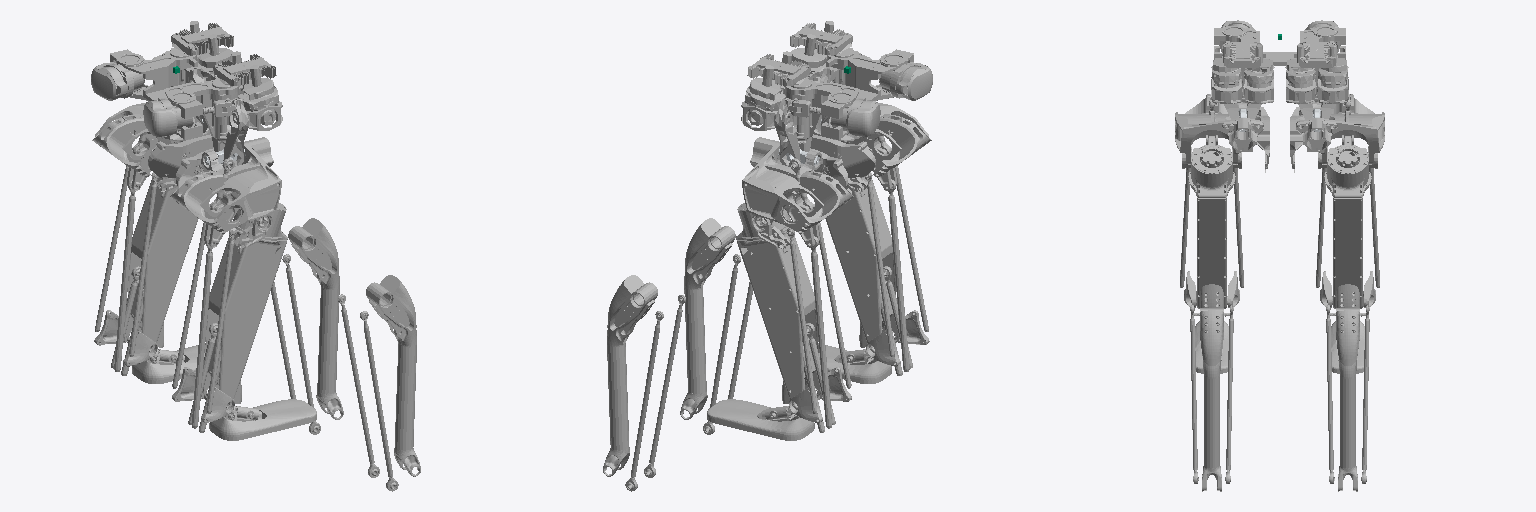
--- Render facts (derived) ---
The picture shows the robot from 3 angles, left to right: view 1: azimuth 30°, elevation 25°; view 2: azimuth 150°, elevation 25°; view 3: azimuth 270°, elevation 25°; orthographic projection.
Model kangaroo with 24 links and 23 joints (14 revolute, 2 prismatic, 6 fixed, 1 floating), rooted at world, posed joints at zero except 6 at the middle of their limits (leg_left_length_joint = 0.4231, leg_left_femur_joint = 0.6981, leg_left_knee_joint = 1.4, leg_right_length_joint = 0.4231, leg_right_femur_joint = 0.6981, leg_right_knee_joint = 1.4).
Links seen in each view (by area): view 1: leg_right_femur_link, leg_left_femur_link, waist, leg_right_3_link, leg_right_knee_link, leg_left_knee_link, leg_right_1_link, leg_left_3_link, leg_right_5_link, leg_left_1_link, leg_left_5_link; view 2: leg_left_femur_link, leg_right_femur_link, waist, leg_left_3_link, leg_left_knee_link, leg_right_knee_link, leg_left_1_link, leg_right_3_link, leg_left_5_link, leg_right_1_link, leg_right_5_link; view 3: leg_left_femur_link, leg_right_femur_link, leg_right_knee_link, leg_left_knee_link, leg_left_1_link, leg_right_1_link, leg_left_3_link, leg_right_3_link, waist, leg_left_5_link, leg_right_5_link.
Link boxes in pixels (x1,y1,x2,y2): leg_right_femur_link: (172,158,287,432); leg_left_femur_link: (94,136,198,375); waist: (91,48,238,140); leg_right_3_link: (170,137,281,248); leg_right_knee_link: (338,275,420,491); leg_left_knee_link: (271,218,343,434); leg_right_1_link: (212,51,282,166); leg_left_3_link: (92,103,230,191); leg_right_5_link: (209,399,316,440); leg_left_1_link: (171,21,233,124); leg_left_5_link: (132,345,204,383); leg_left_femur_link: (736,158,851,432); leg_right_femur_link: (825,136,929,375); waist: (785,48,932,140); leg_left_3_link: (742,137,853,248); leg_left_knee_link: (603,275,685,491); leg_right_knee_link: (680,218,752,434); leg_left_1_link: (741,51,811,166); leg_right_3_link: (793,103,931,191); leg_left_5_link: (707,399,814,440); leg_right_1_link: (790,21,852,124); leg_right_5_link: (819,345,891,383); leg_left_femur_link: (1316,98,1379,308); leg_right_femur_link: (1180,98,1243,308); leg_right_knee_link: (1190,305,1233,491); leg_left_knee_link: (1326,305,1369,491); leg_left_1_link: (1285,42,1348,118); leg_right_1_link: (1211,42,1274,118); leg_left_3_link: (1290,94,1384,172); leg_right_3_link: (1175,94,1269,172); waist: (1214,20,1345,101); leg_left_5_link: (1330,313,1365,373); leg_right_5_link: (1194,313,1229,373).
Size in the robot's own frame: 0.5597 by 0.4554 by 0.9232 metres.
15 mesh visuals loaded from 8 distinct referenced files (8 binary STL).

The robot description file, URDF, robot "kangaroo":
<?xml version="1.0" ?>
<!-- =================================================================================== -->
<!-- |    This document was autogenerated by xacro from kangaroo.urdf.xacro            | -->
<!-- |    EDITING THIS FILE BY HAND IS NOT RECOMMENDED                                 | -->
<!-- =================================================================================== -->
<!--

  Copyright (c) 2020, PAL Robotics, S.L.
  All rights reserved.
-->
<robot name="kangaroo" xmlns:controller="http://playerstage.sourceforge.net/gazebo/xmlschema/#controller" xmlns:interface="http://playerstage.sourceforge.net/gazebo/xmlschema/#interface" xmlns:sensor="http://playerstage.sourceforge.net/gazebo/xmlschema/#sensor">
  <!--************************-->
  <!--        BASE_LINK       -->
  <!--************************-->
  <link name="base_link"/>
  <link name="waist">
    <inertial>
      <origin rpy="0 0 0" xyz="-0.060294 0.00050634 0.15428"/>
      <mass value="12.296"/>
      <inertia ixx="0.084937" ixy="-4.4873E-05" ixz="0.0036119" iyy="0.080587" iyz="0.0001781" izz="0.0247"/>
    </inertial>
    <visual>
      <origin rpy="0 0 0" xyz="0 0 0"/>
      <geometry>
        <mesh filename="package://kangaroo_description/meshes/base_link.stl"/>
      </geometry>
      <material name="">
        <color rgba="0.75294 0.75294 0.75294 1"/>
      </material>
    </visual>
    <collision>
      <origin rpy="0 0 0" xyz="0 0 0"/>
      <geometry>
        <mesh filename="package://kangaroo_description/meshes/base_link.stl"/>
      </geometry>
    </collision>
  </link>
  <joint name="base_joint" type="fixed">
    <parent link="base_link"/>
    <child link="waist"/>
  </joint>
  <link name="imu_link">
    <visual>
      <origin rpy="0 0 0" xyz="0 0 0"/>
      <geometry>
        <box size="0.01 0.01 0.01"/>
      </geometry>
    </visual>
  </link>
  <joint name="imu_joint" type="fixed">
    <origin rpy="0.0 3.141592653589793 0.0" xyz="-0.07075 0.0 0.012"/>
    <parent link="base_link"/>
    <child link="imu_link"/>
  </joint>
  <link name="leg_left_1_link">
    <inertial>
      <origin rpy="0 0 0" xyz="0.0461079574284527 -0.000826631128234001 0.00897630312181676"/>
      <mass value="2.49954419149183"/>
      <inertia ixx="0.00151181747940305" ixy="8.83298140320242e-06" ixz="2.17752660615735e-05" iyy="0.00154876023440654" iyz="-1.94449871986378e-05" izz="0.00136106613590181"/>
    </inertial>
    <visual>
      <origin rpy="0 0 0" xyz="0 0 0"/>
      <geometry>
        <mesh filename="package://kangaroo_description/meshes/leg_1_link.stl" scale="1 1 1"/>
      </geometry>
      <material name="">
        <color rgba="0.752941176470588 0.752941176470588 0.752941176470588 1"/>
      </material>
    </visual>
    <collision>
      <origin rpy="0 0 0" xyz="0 0 0"/>
      <geometry>
        <mesh filename="package://kangaroo_description/meshes/leg_1_link.stl" scale="1 1 1"/>
      </geometry>
    </collision>
  </link>
  <joint name="leg_left_1_joint" type="revolute">
    <origin rpy="0 0 0" xyz="-0.01602 0.08 -0.0585"/>
    <parent link="waist"/>
    <child link="leg_left_1_link"/>
    <axis xyz="0 0 1"/>
    <limit effort="100" lower="-0.2617993877991494" upper="0.6981317007977318" velocity="3.87"/>
  </joint>
  <link name="leg_left_2_link">
    <inertial>
      <origin rpy="0 0 0" xyz="-0.00299642516878475 -0.000101293190038279 6.76277450706309E-10"/>
      <mass value="0.0907287903783648"/>
      <inertia ixx="6.10402208807908E-06" ixy="3.54403077254796E-08" ixz="-3.0910293306339E-13" iyy="3.90470919341026E-05" iyz="-1.14069181428674E-12" izz="3.64238433670963E-05"/>
    </inertial>
    <visual>
      <origin rpy="0 0 0" xyz="0 0 0"/>
      <geometry>
        <mesh filename="package://kangaroo_description/meshes/leg_2_link.stl" scale="1 1 1"/>
      </geometry>
      <material name="">
        <color rgba="0.894117647058823 0.913725490196078 0.929411764705882 1"/>
      </material>
    </visual>
  </link>
  <joint name="leg_left_2_joint" type="revolute">
    <origin rpy="0 0 0" xyz="0.016042 0 -0.0925"/>
    <parent link="leg_left_1_link"/>
    <child link="leg_left_2_link"/>
    <axis xyz="0 1 0"/>
    <limit effort="100" lower="-0.7417649320975901" upper="0.7417649320975901" velocity="3.87"/>
  </joint>
  <link name="leg_left_3_link">
    <inertial>
      <origin rpy="0 0 0" xyz="-0.042791492019428 0.0477271400490046 -0.0411219993940296"/>
      <mass value="3.66987205802361"/>
      <inertia ixx="0.00226579365890287" ixy="0.000186528466622377" ixz="-9.4464170720752e-05" iyy="0.00347844100338387" iyz="4.48424073671215e-05" izz="0.00335571040406776"/>
    </inertial>
    <visual>
      <origin rpy="0 0 0" xyz="0 0 0"/>
      <geometry>
        <mesh filename="package://kangaroo_description/meshes/leg_3_link.stl" scale="1 1 1"/>
      </geometry>
      <material name="">
        <color rgba="0.752941176470588 0.752941176470588 0.752941176470588 1"/>
      </material>
    </visual>
    <collision>
      <origin rpy="0 0 0" xyz="0 0 0"/>
      <geometry>
        <mesh filename="package://kangaroo_description/meshes/leg_3_link.stl" scale="1 1 1"/>
      </geometry>
    </collision>
  </link>
  <joint name="leg_left_3_joint" type="revolute">
    <origin rpy="0 0 0" xyz="0 0 0"/>
    <parent link="leg_left_2_link"/>
    <child link="leg_left_3_link"/>
    <axis xyz="1 0 0"/>
    <limit effort="100" lower="-0.47123889803846897" upper="0.47123889803846897" velocity="3.87"/>
  </joint>
  <link name="leg_left_femur_link">
    <inertial>
      <origin rpy="0 0 0" xyz="0.114702002010089 0.000182856660852354 -0.0143986490691173"/>
      <mass value="0.1"/>
      <inertia ixx="1.E-5" ixy="0.0" ixz="0.0" iyy="1.E-5" iyz="0.0" izz="1.E-5"/>
    </inertial>
    <visual>
      <origin rpy="0 0 0" xyz="0 0 0"/>
      <geometry>
        <mesh filename="package://kangaroo_description/meshes/leg_4_link.stl"/>
      </geometry>
      <material name="">
        <color rgba="0.752941176470588 0.752941176470588 0.752941176470588 1"/>
      </material>
    </visual>
    <collision>
      <origin rpy="0 0 0" xyz="0 0 0"/>
      <geometry>
        <mesh filename="package://kangaroo_description/meshes/leg_4_link.stl"/>
      </geometry>
    </collision>
  </link>
  <link name="leg_left_knee_link">
    <inertial>
      <origin rpy="0 0 0" xyz="-0.158662729273678 -8.28192764317226E-05 -0.0337468261967321"/>
      <mass value="0.1"/>
      <inertia ixx="1.E-5" ixy="0.0" ixz="0.0" iyy="1.E-5" iyz="0.0" izz="1.E-5"/>
    </inertial>
    <visual>
      <origin rpy="0 0 0" xyz="0 0 0"/>
      <geometry>
        <mesh filename="package://kangaroo_description/meshes/leg_5_link.stl"/>
      </geometry>
      <material name="">
        <color rgba="0.752941176470588 0.752941176470588 0.752941176470588 1"/>
      </material>
    </visual>
    <collision>
      <origin rpy="0 0 0" xyz="0 0 0"/>
      <geometry>
        <mesh filename="package://kangaroo_description/meshes/leg_5_collision_link.stl"/>
      </geometry>
    </collision>
  </link>
  <link name="leg_left_length_link">
    <inertial>
      <origin rpy="0 0 0" xyz="0.0 0.0 -0.2"/>
      <mass value="6.0"/>
      <inertia ixx="0.05" ixy="0.0" ixz="0.0" iyy="0.05" iyz="0.0" izz="0.016875"/>
    </inertial>
    <visual>
      <origin rpy="0 0 0" xyz="0 0 -0.291096695"/>
      <geometry>
        <cylinder length="0.58219339" radius="0.00005"/>
      </geometry>
      <material name="DarkGrey"/>
    </visual>
  </link>
  <joint name="leg_left_length_joint" type="prismatic">
    <origin rpy="0 3.141592653589793 0" xyz="0 0.0669 -0.09"/>
    <parent link="leg_left_3_link"/>
    <child link="leg_left_length_link"/>
    <axis xyz="0 0 1"/>
    <limit effort="500" lower="0.131973" upper="0.71416639" velocity="10"/>
  </joint>
  <joint name="leg_left_femur_joint" type="revolute">
    <origin rpy="0 -0.17453292519943295 0" xyz="0 0.0669 -0.09"/>
    <parent link="leg_left_3_link"/>
    <child link="leg_left_femur_link"/>
    <axis xyz="0 1 0"/>
    <limit effort="100" lower="0.17453292519943295" upper="1.2217304763960306" velocity="3.87"/>
    <!--mimic joint="leg_left_length_joint" multiplier="1.69435" offset="-0.096145"/-->
  </joint>
  <joint name="leg_left_knee_joint" type="revolute">
    <origin rpy="0 0.3490658503988659 0" xyz="0.37413 0 -0.066509"/>
    <parent link="leg_left_femur_link"/>
    <child link="leg_left_knee_link"/>
    <axis xyz="0 -1 0"/>
    <limit effort="100" lower="0.3490658503988659" upper="2.443460952792061" velocity="3.87"/>
    <!--mimic joint="leg_left_length_joint" multiplier="3.38877" offset="-0.19229"/-->
  </joint>
  <link name="leg_left_4_link">
    <inertial>
      <origin rpy="0 0 0" xyz="-0.00714160332877733 4.8311277200952E-09 0.00259941265068991"/>
      <mass value="0.0905836559788966"/>
      <inertia ixx="7.07461991271062E-06" ixy="-1.86951004827933E-12" ixz="8.30282143898823E-06" iyy="2.92762498059213E-05" iyz="1.82895645239997E-11" izz="2.68643074366886E-05"/>
    </inertial>
    <visual>
      <origin rpy="0 0 0" xyz="0 0 0"/>
      <geometry>
        <mesh filename="package://kangaroo_description/meshes/leg_6_link.stl"/>
      </geometry>
      <material name="">
        <color rgba="0.752941176470588 0.752941176470588 0.752941176470588 1"/>
      </material>
    </visual>
  </link>
  <joint name="leg_left_4_joint" type="revolute">
    <origin rpy="0 3.141592653589793 0" xyz="0.0 0 0.0"/>
    <parent link="leg_left_length_link"/>
    <child link="leg_left_4_link"/>
    <axis xyz="0 1 0"/>
    <limit effort="100" lower="-0.7417649320975901" upper="0.7417649320975901" velocity="3.87"/>
  </joint>
  <link name="leg_left_5_link">
    <inertial>
      <origin rpy="0 0 0" xyz="0.0177425915954867 -3.67950153736807E-05 -0.0172694732454237"/>
      <mass value="0.394418327358563"/>
      <inertia ixx="0.000228382894016579" ixy="-2.56621760255351E-07" ixz="4.1179623691202E-05" iyy="0.00108653696539759" iyz="7.85648127231571E-09" izz="0.0012643765698811"/>
    </inertial>
    <visual>
      <origin rpy="0 0 0" xyz="0 0 0"/>
      <geometry>
        <mesh filename="package://kangaroo_description/meshes/leg_7_link.stl"/>
      </geometry>
      <material name="">
        <color rgba="0.752941176470588 0.752941176470588 0.752941176470588 1"/>
      </material>
    </visual>
    <collision>
      <origin rpy="0 0 0" xyz="0.035 0 -0.02"/>
      <geometry>
        <box size="0.21 0.09 0.025"/>
      </geometry>
    </collision>
  </link>
  <joint name="leg_left_5_joint" type="revolute">
    <origin rpy="0 0 0" xyz="0 0 0"/>
    <parent link="leg_left_4_link"/>
    <child link="leg_left_5_link"/>
    <!--axis xyz="-0.93969 0 0.34202"/-->
    <axis xyz="-1 0 0"/>
    <limit effort="100" lower="-0.47123889803846897" upper="0.47123889803846897" velocity="3.87"/>
  </joint>
  <link name="left_sole_link"/>
  <joint name="left_sole_fix_joint" type="fixed">
    <parent link="leg_left_5_link"/>
    <child link="left_sole_link"/>
    <origin rpy="0 0 0" xyz="0.028 0.0 -0.029"/>
    <axis xyz="1 0 0"/>
  </joint>
  <transmission name="leg_left_4_transmission">
    <type>transmission_interface/SimpleTransmission</type>
    <actuator name="leg_left_4_motor">
      <hardwareInterface>hardware_interface/PositionJointInterface</hardwareInterface>
      <hardwareInterface>hardware_interface/EffortJointInterface</hardwareInterface>
      <hardwareInterface>hardware_interface/JointStateInterface</hardwareInterface>
      <mechanicalReduction>1.0</mechanicalReduction>
    </actuator>
    <joint name="leg_left_4_joint">
      <hardwareInterface>hardware_interface/PositionJointInterface</hardwareInterface>
      <hardwareInterface>hardware_interface/EffortJointInterface</hardwareInterface>
      <hardwareInterface>hardware_interface/JointStateInterface</hardwareInterface>
    </joint>
  </transmission>
  <transmission name="leg_left_5_transmission">
    <type>transmission_interface/SimpleTransmission</type>
    <actuator name="leg_left_5_motor">
      <hardwareInterface>hardware_interface/PositionJointInterface</hardwareInterface>
      <hardwareInterface>hardware_interface/EffortJointInterface</hardwareInterface>
      <hardwareInterface>hardware_interface/JointStateInterface</hardwareInterface>
      <mechanicalReduction>1.0</mechanicalReduction>
    </actuator>
    <joint name="leg_left_5_joint">
      <hardwareInterface>hardware_interface/PositionJointInterface</hardwareInterface>
      <hardwareInterface>hardware_interface/EffortJointInterface</hardwareInterface>
      <hardwareInterface>hardware_interface/JointStateInterface</hardwareInterface>
    </joint>
  </transmission>
  <!--     <transmission name="leg_${side}_transmission">
      <type>pal_transmissions/AnkleCustomTransmission</type>
      <actuator name="leg_${side}_${roll_joint}_motor">
        <role>right_actuator</role>
        <param_ns>/ankle_params</param_ns>
      </actuator>
      <actuator name="leg_${side}_${pitch_joint}_motor">
        <role>left_actuator</role>
      </actuator>
      <actuator name="${read_actuator}">
        <role>leg_length</role>
        <param_ns>/leg_params</param_ns>
      </actuator>
      <joint name="leg_${side}_${roll_joint}_joint">
        <role>roll_joint</role>
        <offset> 0.0 </offset>
        <hardwareInterface>hardware_interface/PositionJointInterface</hardwareInterface>
        <hardwareInterface>hardware_interface/EffortJointInterface</hardwareInterface>
      </joint>
      <joint name="leg_${side}_${pitch_joint}_joint">
        <role>pitch_joint</role>
        <offset> 0.0 </offset>
        <hardwareInterface>hardware_interface/PositionJointInterface</hardwareInterface>
        <hardwareInterface>hardware_interface/EffortJointInterface</hardwareInterface>
      </joint>
    </transmission> -->
  <gazebo reference="leg_left_4_joint">
    <implicitSpringDamper>1</implicitSpringDamper>
  </gazebo>
  <gazebo reference="leg_left_5_joint">
    <implicitSpringDamper>1</implicitSpringDamper>
    <provideFeedback>1</provideFeedback>
  </gazebo>
  <gazebo reference="leg_left_4_link">
    <mu1>0.9</mu1>
    <mu2>0.9</mu2>
    <implicitSpringDamper>1</implicitSpringDamper>
    <material>Gazebo/FlatWhite</material>
  </gazebo>
  <!--
   <gazebo reference="leg_${side}_${roll_joint}_link">
     <mu1>0.9</mu1>
     <mu2>0.9</mu2>
     <implicitSpringDamper>1</implicitSpringDamper>
     <material>Gazebo/FlatWhite</material>
   </gazebo>  -->
  <gazebo reference="leg_left_5_link">
    <kp>1000000.0</kp>
    <!-- 1000000 -->
    <kd>100.0</kd>
    <mu1>1.0</mu1>
    <mu2>1.0</mu2>
    <fdir1>1 0 0</fdir1>
    <maxVel>1.0</maxVel>
    <minDepth>0.00</minDepth>
    <implicitSpringDamper>1</implicitSpringDamper>
    <provideFeedback>1</provideFeedback>
    <material>Gazebo/FlatWhite</material>
  </gazebo>
  <!--
    <gazebo reference="leg_{side}_${pitch_joint}_link">
     <kp>1000.0</kp>
      <kd>10.0</kd>
      <mu1>1.0</mu1>
      <mu2>1.0</mu2>
      <fdir1>1 0 0</fdir1>
      <fdir2>0 1 0</fdir2>
      <maxVel>1.0</maxVel>
      <minDepth>0.00</minDepth>
      <implicitSpringDamper>1</implicitSpringDamper>
      <provideFeedback>1</provideFeedback>
      <material>Gazebo/FlatWhite</material>
    </gazebo>
    -->
  <transmission name="leg_left_transmission_yaw">
    <type>transmission_interface/SimpleTransmission</type>
    <actuator name="leg_left_1_motor">
      <mechanicalReduction>1.0</mechanicalReduction>
    </actuator>
    <joint name="leg_left_1_joint">
      <hardwareInterface>hardware_interface/PositionJointInterface</hardwareInterface>
      <hardwareInterface>hardware_interface/EffortJointInterface</hardwareInterface>
    </joint>
  </transmission>
  <transmission name="leg_left_transmission_roll_pitch">
    <type>pal_transmissions/HipCustomTransmission</type>
    <actuator name="leg_left_3_motor">
      <role>actuator1</role>
      <virtual_linear_actuator>
        <screw_lead> 0.005 </screw_lead>
        <efficiency> 0.9 </efficiency>
        <limits>
          <position>
            <min> 0.0 </min>
            <max> 0.10 </max>
          </position>
          <velocity>
            <min> -0.3 </min>
            <max> 0.3 </max>
          </velocity>
        </limits>
      </virtual_linear_actuator>
      <mechanicalReduction>1.0</mechanicalReduction>
    </actuator>
    <actuator name="leg_left_2_motor">
      <role>actuator2</role>
      <virtual_linear_actuator>
        <screw_lead> 0.005 </screw_lead>
        <efficiency> 0.9 </efficiency>
        <limits>
          <position>
            <min> 0.0 </min>
            <max> 0.10 </max>
          </position>
          <velocity>
            <min> -0.3 </min>
            <max> 0.3 </max>
          </velocity>
        </limits>
      </virtual_linear_actuator>
      <mechanicalReduction>1.0</mechanicalReduction>
    </actuator>
    <joint name="leg_left_3_joint">
      <role>joint1</role>
      <limits>
        <position>
          <min> -0.47123889803846897 </min>
          <max> 0.47123889803846897 </max>
        </position>
      </limits>
      <configuration>
        <offset_x> 0.0035 </offset_x>
        <offset_y> 0.0051 </offset_y>
        <projected_distance> 0.17650 </projected_distance>
        <dx> 0.0035 </dx>
        <dy> 0.0060 </dy>
      </configuration>
      <hardwareInterface>hardware_interface/PositionJointInterface</hardwareInterface>
      <hardwareInterface>hardware_interface/EffortJointInterface</hardwareInterface>
    </joint>
    <joint name="leg_left_2_joint">
      <role>joint2</role>
      <limits>
        <position>
          <min> -0.7417649320975901 </min>
          <max> 0.7417649320975901 </max>
        </position>
      </limits>
      <hardwareInterface>hardware_interface/PositionJointInterface</hardwareInterface>
      <hardwareInterface>hardware_interface/EffortJointInterface</hardwareInterface>
    </joint>
  </transmission>
  <transmission name="leg_left_leg_length_trans">
    <type>pal_transmissions/LegCustomTransmission</type>
    <actuator name="leg_left_length_motor">
      </actuator>
    <joint name="leg_left_length_joint">
      <joint_type> leg_length </joint_type>
      <param_ns> /leg_params </param_ns>
      <offset> 0.0 </offset>
      <hardwareInterface>hardware_interface/PositionJointInterface</hardwareInterface>
      <hardwareInterface>hardware_interface/EffortJointInterface</hardwareInterface>
      <hardwareInterface>hardware_interface/JointStateInterface</hardwareInterface>
    </joint>
  </transmission>
  <gazebo reference="leg_left_1_link">
    <mu1>0.9</mu1>
    <mu2>0.9</mu2>
  </gazebo>
  <gazebo reference="leg_left_2_link">
    <mu1>0.9</mu1>
    <mu2>0.9</mu2>
  </gazebo>
  <gazebo reference="leg_left_3_link">
    <mu1>0.9</mu1>
    <mu2>0.9</mu2>
  </gazebo>
  <gazebo reference="leg_left_length_link">
    <mu1>0.9</mu1>
    <mu2>0.9</mu2>
  </gazebo>
  <!-- <gazebo reference="leg_${side}_4_link">
      <mu1>0.9</mu1>
      <mu2>0.9</mu2>
    </gazebo>
    <gazebo reference="leg_${side}_5_link">
      <mu1>0.9</mu1>
      <mu2>0.9</mu2>
    </gazebo> -->
  <gazebo reference="leg_left_1_joint">
    <implicitSpringDamper>1</implicitSpringDamper>
  </gazebo>
  <gazebo reference="leg_left_2_joint">
    <implicitSpringDamper>1</implicitSpringDamper>
  </gazebo>
  <gazebo reference="leg_left_3_joint">
    <implicitSpringDamper>1</implicitSpringDamper>
  </gazebo>
  <!-- <gazebo reference="leg_${side}_4_joint">
      <implicitSpringDamper>1</implicitSpringDamper>
   </gazebo>
   <gazebo reference="leg_${side}_5_joint">
      <implicitSpringDamper>1</implicitSpringDamper>
   </gazebo> -->
  <gazebo reference="leg_left_length_link">
    <implicitSpringDamper>1</implicitSpringDamper>
  </gazebo>
  <gazebo reference="leg_left_1_link">
    <material>Gazebo/FlatWhite</material>
  </gazebo>
  <gazebo reference="leg_left_2_link">
    <material>Gazebo/FlatWhite</material>
  </gazebo>
  <gazebo reference="leg_left_3_link">
    <material>Gazebo/FlatWhite</material>
  </gazebo>
  <!-- <gazebo reference="leg_${side}_4_link">
     <material>Gazebo/FlatBlack</material>
   </gazebo>
   <gazebo reference="leg_${side}_5_link">
     <material>Gazebo/FlatBlack</material>
   </gazebo> -->
  <gazebo reference="leg_left_length_link">
    <material>Gazebo/FlatBlack</material>
  </gazebo>
  <gazebo>
    <plugin filename="libroboticsgroup_gazebo_mimic_joint_plugin.so" name="mimic_joint_plugin">
      <joint>leg_left_length_joint</joint>
      <mimicJoint>leg_left_knee_joint</mimicJoint>
      <multiplier>3.38877</multiplier>
      <offset>-0.19229</offset>
      <sensitiveness>0.0</sensitiveness>
      <!-- if absolute difference between setpoint and process value is below this threshold, do nothing; 0.0 = disable [rad] -->
      <maxEffort>100.0</maxEffort>
    </plugin>
  </gazebo>
  <gazebo>
    <plugin filename="libroboticsgroup_gazebo_mimic_joint_plugin.so" name="mimic_joint_plugin">
      <joint>leg_left_length_joint</joint>
      <mimicJoint>leg_left_femur_joint</mimicJoint>
      <multiplier>1.69435</multiplier>
      <offset>-0.096145</offset>
      <sensitiveness>0.0</sensitiveness>
      <!-- if absolute difference between setpoint and process value is below this threshold, do nothing; 0.0 = disable [rad] -->
      <maxEffort>100.0</maxEffort>
    </plugin>
  </gazebo>
  <link name="leg_right_1_link">
    <inertial>
      <origin rpy="0 0 0" xyz="0.0461079574284527 0.000826631128234001 0.00897630312181676"/>
      <mass value="2.49954419149183"/>
      <inertia ixx="0.00151181747940305" ixy="-8.83298140320242e-06" ixz="-2.17752660615735e-05" iyy="0.00154876023440654" iyz="1.94449871986378e-05" izz="0.00136106613590181"/>
    </inertial>
    <visual>
      <origin rpy="0 0 0" xyz="0 0 0"/>
      <geometry>
        <mesh filename="package://kangaroo_description/meshes/leg_1_link.stl" scale="1 -1 1"/>
      </geometry>
      <material name="">
        <color rgba="0.752941176470588 0.752941176470588 0.752941176470588 1"/>
      </material>
    </visual>
    <collision>
      <origin rpy="0 0 0" xyz="0 0 0"/>
      <geometry>
        <mesh filename="package://kangaroo_description/meshes/leg_1_link.stl" scale="1 -1 1"/>
      </geometry>
    </collision>
  </link>
  <joint name="leg_right_1_joint" type="revolute">
    <origin rpy="0 0 0" xyz="-0.01602 -0.08 -0.0585"/>
    <parent link="waist"/>
    <child link="leg_right_1_link"/>
    <axis xyz="0 0 1"/>
    <limit effort="100" lower="-0.6981317007977318" upper="0.2617993877991494" velocity="3.87"/>
  </joint>
  <link name="leg_right_2_link">
    <inertial>
      <origin rpy="0 0 0" xyz="-0.00299642516878475 -0.000101293190038279 6.76277450706309E-10"/>
      <mass value="0.0907287903783648"/>
      <inertia ixx="6.10402208807908E-06" ixy="3.54403077254796E-08" ixz="-3.0910293306339E-13" iyy="3.90470919341026E-05" iyz="-1.14069181428674E-12" izz="3.64238433670963E-05"/>
    </inertial>
    <visual>
      <origin rpy="0 0 0" xyz="0 0 0"/>
      <geometry>
        <mesh filename="package://kangaroo_description/meshes/leg_2_link.stl" scale="1 -1 1"/>
      </geometry>
      <material name="">
        <color rgba="0.894117647058823 0.913725490196078 0.929411764705882 1"/>
      </material>
    </visual>
  </link>
  <joint name="leg_right_2_joint" type="revolute">
    <origin rpy="0 0 0" xyz="0.016042 0 -0.0925"/>
    <parent link="leg_right_1_link"/>
    <child link="leg_right_2_link"/>
    <axis xyz="0 1 0"/>
    <limit effort="100" lower="-0.7417649320975901" upper="0.7417649320975901" velocity="3.87"/>
  </joint>
  <link name="leg_right_3_link">
    <inertial>
      <origin rpy="0 0 0" xyz="-0.042791492019428 -0.0477271400490046 -0.0411219993940296"/>
      <mass value="3.66987205802361"/>
      <inertia ixx="0.00226579365890287" ixy="-0.000186528466622377" ixz="9.4464170720752e-05" iyy="0.00347844100338387" iyz="-4.48424073671215e-05" izz="0.00335571040406776"/>
    </inertial>
    <visual>
      <origin rpy="0 0 0" xyz="0 0 0"/>
      <geometry>
        <mesh filename="package://kangaroo_description/meshes/leg_3_link.stl" scale="1 -1 1"/>
      </geometry>
      <material name="">
        <color rgba="0.752941176470588 0.752941176470588 0.752941176470588 1"/>
      </material>
    </visual>
    <collision>
      <origin rpy="0 0 0" xyz="0 0 0"/>
      <geometry>
        <mesh filename="package://kangaroo_description/meshes/leg_3_link.stl" scale="1 -1 1"/>
      </geometry>
    </collision>
  </link>
  <joint name="leg_right_3_joint" type="revolute">
    <origin rpy="0 0 0" xyz="0 0 0"/>
    <parent link="leg_right_2_link"/>
    <child link="leg_right_3_link"/>
    <axis xyz="1 0 0"/>
    <limit effort="100" lower="-0.47123889803846897" upper="0.47123889803846897" velocity="3.87"/>
  </joint>
  <link name="leg_right_femur_link">
    <inertial>
      <origin rpy="0 0 0" xyz="0.114702002010089 0.000182856660852354 -0.0143986490691173"/>
      <mass value="0.1"/>
      <inertia ixx="1.E-5" ixy="0.0" ixz="0.0" iyy="1.E-5" iyz="0.0" izz="1.E-5"/>
    </inertial>
    <visual>
      <origin rpy="0 0 0" xyz="0 0 0"/>
      <geometry>
        <mesh filename="package://kangaroo_description/meshes/leg_4_link.stl"/>
      </geometry>
      <material name="">
        <color rgba="0.752941176470588 0.752941176470588 0.752941176470588 1"/>
      </material>
    </visual>
    <collision>
      <origin rpy="0 0 0" xyz="0 0 0"/>
      <geometry>
        <mesh filename="package://kangaroo_description/meshes/leg_4_link.stl"/>
      </geometry>
    </collision>
  </link>
  <link name="leg_right_knee_link">
    <inertial>
      <origin rpy="0 0 0" xyz="-0.158662729273678 -8.28192764317226E-05 -0.0337468261967321"/>
      <mass value="0.1"/>
      <inertia ixx="1.E-5" ixy="0.0" ixz="0.0" iyy="1.E-5" iyz="0.0" izz="1.E-5"/>
    </inertial>
    <visual>
      <origin rpy="0 0 0" xyz="0 0 0"/>
      <geometry>
        <mesh filename="package://kangaroo_description/meshes/leg_5_link.stl"/>
      </geometry>
      <material name="">
        <color rgba="0.752941176470588 0.752941176470588 0.752941176470588 1"/>
      </material>
    </visual>
    <collision>
      <origin rpy="0 0 0" xyz="0 0 0"/>
      <geometry>
        <mesh filename="package://kangaroo_description/meshes/leg_5_collision_link.stl"/>
      </geometry>
    </collision>
  </link>
  <link name="leg_right_length_link">
    <inertial>
      <origin rpy="0 0 0" xyz="0.0 0.0 -0.2"/>
      <mass value="6.0"/>
      <inertia ixx="0.05" ixy="0.0" ixz="0.0" iyy="0.05" iyz="0.0" izz="0.016875"/>
    </inertial>
    <visual>
      <origin rpy="0 0 0" xyz="0 0 -0.291096695"/>
      <geometry>
        <cylinder length="0.58219339" radius="0.00005"/>
      </geometry>
      <material name="DarkGrey"/>
    </visual>
  </link>
  <joint name="leg_right_length_joint" type="prismatic">
    <origin rpy="0 3.141592653589793 0" xyz="0 -0.0669 -0.09"/>
    <parent link="leg_right_3_link"/>
    <child link="leg_right_length_link"/>
    <axis xyz="0 0 1"/>
    <limit effort="500" lower="0.131973" upper="0.71416639" velocity="10"/>
  </joint>
  <joint name="leg_right_femur_joint" type="revolute">
    <origin rpy="0 -0.17453292519943295 0" xyz="0 -0.0669 -0.09"/>
    <parent link="leg_right_3_link"/>
    <child link="leg_right_femur_link"/>
    <axis xyz="0 1 0"/>
    <limit effort="100" lower="0.17453292519943295" upper="1.2217304763960306" velocity="3.87"/>
    <!--mimic joint="leg_right_length_joint" multiplier="1.69435" offset="-0.096145"/-->
  </joint>
  <joint name="leg_right_knee_joint" type="revolute">
    <origin rpy="0 0.3490658503988659 0" xyz="0.37413 0 -0.066509"/>
    <parent link="leg_right_femur_link"/>
    <child link="leg_right_knee_link"/>
    <axis xyz="0 -1 0"/>
    <limit effort="100" lower="0.3490658503988659" upper="2.443460952792061" velocity="3.87"/>
    <!--mimic joint="leg_right_length_joint" multiplier="3.38877" offset="-0.19229"/-->
  </joint>
  <link name="leg_right_4_link">
    <inertial>
      <origin rpy="0 0 0" xyz="-0.00714160332877733 4.8311277200952E-09 0.00259941265068991"/>
      <mass value="0.0905836559788966"/>
      <inertia ixx="7.07461991271062E-06" ixy="-1.86951004827933E-12" ixz="8.30282143898823E-06" iyy="2.92762498059213E-05" iyz="1.82895645239997E-11" izz="2.68643074366886E-05"/>
    </inertial>
    <visual>
      <origin rpy="0 0 0" xyz="0 0 0"/>
      <geometry>
        <mesh filename="package://kangaroo_description/meshes/leg_6_link.stl"/>
      </geometry>
      <material name="">
        <color rgba="0.752941176470588 0.752941176470588 0.752941176470588 1"/>
      </material>
    </visual>
  </link>
  <joint name="leg_right_4_joint" type="revolute">
    <origin rpy="0 3.141592653589793 0" xyz="0.0 0 0.0"/>
    <parent link="leg_right_length_link"/>
    <child link="leg_right_4_link"/>
    <axis xyz="0 1 0"/>
    <limit effort="100" lower="-0.7417649320975901" upper="0.7417649320975901" velocity="3.87"/>
  </joint>
  <link name="leg_right_5_link">
    <inertial>
      <origin rpy="0 0 0" xyz="0.0177425915954867 -3.67950153736807E-05 -0.0172694732454237"/>
      <mass value="0.394418327358563"/>
      <inertia ixx="0.000228382894016579" ixy="-2.56621760255351E-07" ixz="4.1179623691202E-05" iyy="0.00108653696539759" iyz="7.85648127231571E-09" izz="0.0012643765698811"/>
    </inertial>
    <visual>
      <origin rpy="0 0 0" xyz="0 0 0"/>
      <geometry>
        <mesh filename="package://kangaroo_description/meshes/leg_7_link.stl"/>
      </geometry>
      <material name="">
        <color rgba="0.752941176470588 0.752941176470588 0.752941176470588 1"/>
      </material>
    </visual>
    <collision>
      <origin rpy="0 0 0" xyz="0.035 0 -0.02"/>
      <geometry>
        <box size="0.21 0.09 0.025"/>
      </geometry>
    </collision>
  </link>
  <joint name="leg_right_5_joint" type="revolute">
    <origin rpy="0 0 0" xyz="0 0 0"/>
    <parent link="leg_right_4_link"/>
    <child link="leg_right_5_link"/>
    <!--axis xyz="-0.93969 0 0.34202"/-->
    <axis xyz="-1. 0 0."/>
    <limit effort="100" lower="-0.47123889803846897" upper="0.47123889803846897" velocity="3.87"/>
  </joint>
  <link name="right_sole_link"/>
  <joint name="right_sole_fix_joint" type="fixed">
    <parent link="leg_right_5_link"/>
    <child link="right_sole_link"/>
    <origin rpy="0 0 0" xyz="0.028 0.0 -0.029"/>
    <axis xyz="1 0 0"/>
  </joint>
  <transmission name="leg_right_4_transmission">
    <type>transmission_interface/SimpleTransmission</type>
    <actuator name="leg_right_4_motor">
      <hardwareInterface>hardware_interface/PositionJointInterface</hardwareInterface>
      <hardwareInterface>hardware_interface/EffortJointInterface</hardwareInterface>
      <hardwareInterface>hardware_interface/JointStateInterface</hardwareInterface>
      <mechanicalReduction>1.0</mechanicalReduction>
    </actuator>
    <joint name="leg_right_4_joint">
      <hardwareInterface>hardware_interface/PositionJointInterface</hardwareInterface>
      <hardwareInterface>hardware_interface/EffortJointInterface</hardwareInterface>
      <hardwareInterface>hardware_interface/JointStateInterface</hardwareInterface>
    </joint>
  </transmission>
  <transmission name="leg_right_5_transmission">
    <type>transmission_interface/SimpleTransmission</type>
    <actuator name="leg_right_5_motor">
      <hardwareInterface>hardware_interface/PositionJointInterface</hardwareInterface>
      <hardwareInterface>hardware_interface/EffortJointInterface</hardwareInterface>
      <hardwareInterface>hardware_interface/JointStateInterface</hardwareInterface>
      <mechanicalReduction>1.0</mechanicalReduction>
    </actuator>
    <joint name="leg_right_5_joint">
      <hardwareInterface>hardware_interface/PositionJointInterface</hardwareInterface>
      <hardwareInterface>hardware_interface/EffortJointInterface</hardwareInterface>
      <hardwareInterface>hardware_interface/JointStateInterface</hardwareInterface>
    </joint>
  </transmission>
  <!--     <transmission name="leg_${side}_transmission">
      <type>pal_transmissions/AnkleCustomTransmission</type>
      <actuator name="leg_${side}_${roll_joint}_motor">
        <role>right_actuator</role>
        <param_ns>/ankle_params</param_ns>
      </actuator>
      <actuator name="leg_${side}_${pitch_joint}_motor">
        <role>left_actuator</role>
      </actuator>
      <actuator name="${read_actuator}">
        <role>leg_length</role>
        <param_ns>/leg_params</param_ns>
      </actuator>
      <joint name="leg_${side}_${roll_joint}_joint">
        <role>roll_joint</role>
        <offset> 0.0 </offset>
        <hardwareInterface>hardware_interface/PositionJointInterface</hardwareInterface>
        <hardwareInterface>hardware_interface/EffortJointInterface</hardwareInterface>
      </joint>
      <joint name="leg_${side}_${pitch_joint}_joint">
        <role>pitch_joint</role>
        <offset> 0.0 </offset>
        <hardwareInterface>hardware_interface/PositionJointInterface</hardwareInterface>
        <hardwareInterface>hardware_interface/EffortJointInterface</hardwareInterface>
      </joint>
    </transmission> -->
  <gazebo reference="leg_right_4_joint">
    <implicitSpringDamper>1</implicitSpringDamper>
  </gazebo>
  <gazebo reference="leg_right_5_joint">
    <implicitSpringDamper>1</implicitSpringDamper>
    <provideFeedback>1</provideFeedback>
  </gazebo>
  <gazebo reference="leg_right_4_link">
    <mu1>0.9</mu1>
    <mu2>0.9</mu2>
    <implicitSpringDamper>1</implicitSpringDamper>
    <material>Gazebo/FlatWhite</material>
  </gazebo>
  <!--
   <gazebo reference="leg_${side}_${roll_joint}_link">
     <mu1>0.9</mu1>
     <mu2>0.9</mu2>
     <implicitSpringDamper>1</implicitSpringDamper>
     <material>Gazebo/FlatWhite</material>
   </gazebo>  -->
  <gazebo reference="leg_right_5_link">
    <kp>1000000.0</kp>
    <!-- 1000000 -->
    <kd>100.0</kd>
    <mu1>1.0</mu1>
    <mu2>1.0</mu2>
    <fdir1>1 0 0</fdir1>
    <maxVel>1.0</maxVel>
    <minDepth>0.00</minDepth>
    <implicitSpringDamper>1</implicitSpringDamper>
    <provideFeedback>1</provideFeedback>
    <material>Gazebo/FlatWhite</material>
  </gazebo>
  <!--
    <gazebo reference="leg_{side}_${pitch_joint}_link">
     <kp>1000.0</kp>
      <kd>10.0</kd>
      <mu1>1.0</mu1>
      <mu2>1.0</mu2>
      <fdir1>1 0 0</fdir1>
      <fdir2>0 1 0</fdir2>
      <maxVel>1.0</maxVel>
      <minDepth>0.00</minDepth>
      <implicitSpringDamper>1</implicitSpringDamper>
      <provideFeedback>1</provideFeedback>
      <material>Gazebo/FlatWhite</material>
    </gazebo>
    -->
  <transmission name="leg_right_transmission_yaw">
    <type>transmission_interface/SimpleTransmission</type>
    <actuator name="leg_right_1_motor">
      <mechanicalReduction>1.0</mechanicalReduction>
    </actuator>
    <joint name="leg_right_1_joint">
      <hardwareInterface>hardware_interface/PositionJointInterface</hardwareInterface>
      <hardwareInterface>hardware_interface/EffortJointInterface</hardwareInterface>
    </joint>
  </transmission>
  <transmission name="leg_right_transmission_roll_pitch">
    <type>pal_transmissions/HipCustomTransmission</type>
    <actuator name="leg_right_3_motor">
      <role>actuator1</role>
      <virtual_linear_actuator>
        <screw_lead> 0.005 </screw_lead>
        <efficiency> 0.9 </efficiency>
        <limits>
          <position>
            <min> 0.0 </min>
            <max> 0.10 </max>
          </position>
          <velocity>
            <min> -0.3 </min>
            <max> 0.3 </max>
          </velocity>
        </limits>
      </virtual_linear_actuator>
      <mechanicalReduction>1.0</mechanicalReduction>
    </actuator>
    <actuator name="leg_right_2_motor">
      <role>actuator2</role>
      <virtual_linear_actuator>
        <screw_lead> 0.005 </screw_lead>
        <efficiency> 0.9 </efficiency>
        <limits>
          <position>
            <min> 0.0 </min>
            <max> 0.10 </max>
          </position>
          <velocity>
            <min> -0.3 </min>
            <max> 0.3 </max>
          </velocity>
        </limits>
      </virtual_linear_actuator>
      <mechanicalReduction>1.0</mechanicalReduction>
    </actuator>
    <joint name="leg_right_3_joint">
      <role>joint1</role>
      <limits>
        <position>
          <min> -0.47123889803846897 </min>
          <max> 0.47123889803846897 </max>
        </position>
      </limits>
      <configuration>
        <offset_x> 0.0035 </offset_x>
        <offset_y> 0.0051 </offset_y>
        <projected_distance> 0.17650 </projected_distance>
        <dx> 0.0035 </dx>
        <dy> 0.0060 </dy>
      </configuration>
      <hardwareInterface>hardware_interface/PositionJointInterface</hardwareInterface>
      <hardwareInterface>hardware_interface/EffortJointInterface</hardwareInterface>
    </joint>
    <joint name="leg_right_2_joint">
      <role>joint2</role>
      <limits>
        <position>
          <min> -0.7417649320975901 </min>
          <max> 0.7417649320975901 </max>
        </position>
      </limits>
      <hardwareInterface>hardware_interface/PositionJointInterface</hardwareInterface>
      <hardwareInterface>hardware_interface/EffortJointInterface</hardwareInterface>
    </joint>
  </transmission>
  <transmission name="leg_right_leg_length_trans">
    <type>pal_transmissions/LegCustomTransmission</type>
    <actuator name="leg_right_length_motor">
      </actuator>
    <joint name="leg_right_length_joint">
      <joint_type> leg_length </joint_type>
      <param_ns> /leg_params </param_ns>
      <offset> 0.0 </offset>
      <hardwareInterface>hardware_interface/PositionJointInterface</hardwareInterface>
      <hardwareInterface>hardware_interface/EffortJointInterface</hardwareInterface>
      <hardwareInterface>hardware_interface/JointStateInterface</hardwareInterface>
    </joint>
  </transmission>
  <gazebo reference="leg_right_1_link">
    <mu1>0.9</mu1>
    <mu2>0.9</mu2>
  </gazebo>
  <gazebo reference="leg_right_2_link">
    <mu1>0.9</mu1>
    <mu2>0.9</mu2>
  </gazebo>
  <gazebo reference="leg_right_3_link">
    <mu1>0.9</mu1>
    <mu2>0.9</mu2>
  </gazebo>
  <gazebo reference="leg_right_length_link">
    <mu1>0.9</mu1>
    <mu2>0.9</mu2>
  </gazebo>
  <!-- <gazebo reference="leg_${side}_4_link">
      <mu1>0.9</mu1>
      <mu2>0.9</mu2>
    </gazebo>
    <gazebo reference="leg_${side}_5_link">
      <mu1>0.9</mu1>
      <mu2>0.9</mu2>
    </gazebo> -->
  <gazebo reference="leg_right_1_joint">
    <implicitSpringDamper>1</implicitSpringDamper>
  </gazebo>
  <gazebo reference="leg_right_2_joint">
    <implicitSpringDamper>1</implicitSpringDamper>
  </gazebo>
  <gazebo reference="leg_right_3_joint">
    <implicitSpringDamper>1</implicitSpringDamper>
  </gazebo>
  <!-- <gazebo reference="leg_${side}_4_joint">
      <implicitSpringDamper>1</implicitSpringDamper>
   </gazebo>
   <gazebo reference="leg_${side}_5_joint">
      <implicitSpringDamper>1</implicitSpringDamper>
   </gazebo> -->
  <gazebo reference="leg_right_length_link">
    <implicitSpringDamper>1</implicitSpringDamper>
  </gazebo>
  <gazebo reference="leg_right_1_link">
    <material>Gazebo/FlatWhite</material>
  </gazebo>
  <gazebo reference="leg_right_2_link">
    <material>Gazebo/FlatWhite</material>
  </gazebo>
  <gazebo reference="leg_right_3_link">
    <material>Gazebo/FlatWhite</material>
  </gazebo>
  <!-- <gazebo reference="leg_${side}_4_link">
     <material>Gazebo/FlatBlack</material>
   </gazebo>
   <gazebo reference="leg_${side}_5_link">
     <material>Gazebo/FlatBlack</material>
   </gazebo> -->
  <gazebo reference="leg_right_length_link">
    <material>Gazebo/FlatBlack</material>
  </gazebo>
  <gazebo>
    <plugin filename="libroboticsgroup_gazebo_mimic_joint_plugin.so" name="mimic_joint_plugin">
      <joint>leg_right_length_joint</joint>
      <mimicJoint>leg_right_knee_joint</mimicJoint>
      <multiplier>3.38877</multiplier>
      <offset>-0.19229</offset>
      <sensitiveness>0.0</sensitiveness>
      <!-- if absolute difference between setpoint and process value is below this threshold, do nothing; 0.0 = disable [rad] -->
      <maxEffort>100.0</maxEffort>
    </plugin>
  </gazebo>
  <gazebo>
    <plugin filename="libroboticsgroup_gazebo_mimic_joint_plugin.so" name="mimic_joint_plugin">
      <joint>leg_right_length_joint</joint>
      <mimicJoint>leg_right_femur_joint</mimicJoint>
      <multiplier>1.69435</multiplier>
      <offset>-0.096145</offset>
      <sensitiveness>0.0</sensitiveness>
      <!-- if absolute difference between setpoint and process value is below this threshold, do nothing; 0.0 = disable [rad] -->
      <maxEffort>100.0</maxEffort>
    </plugin>
  </gazebo>
  <gazebo>
    <plugin filename="libgazebo_ros_control.so" name="gazebo_ros_control">
      <ns/>
      <robotSimType>pal_hardware_gazebo/PalHardwareGazebo</robotSimType>
      <robotNamespace/>
      <controlPeriod>0.001</controlPeriod>
    </plugin>
  </gazebo>
  <gazebo>
    <plugin filename="libgazebo_world_odometry.so" name="gazebo_ros_odometry">
      <frameName>base_link</frameName>
      <topicName>floating_base_pose_simulated</topicName>
    </plugin>
  </gazebo>
  <gazebo>
    <plugin filename="libgazebo_ros_force.so" name="gazebo_ros_force">
      <bodyName>base_link</bodyName>
      <topicName>wrench</topicName>
    </plugin>
  </gazebo>
  <gazebo reference="imu_link">
    <!-- this is expected to be reparented to pelvis with appropriate offset
         when imu_link is reduced by fixed joint reduction -->
    <!-- todo: this is working with gazebo 1.4, need to write a unit test -->
    <sensor name="imu_sensor" type="imu">
      <always_on>1</always_on>
      <update_rate>1000.0</update_rate>
      <imu>
        <noise>
          <type>gaussian</type>
          <!-- Noise parameters from Boston Dynamics
               (http://gazebosim.org/wiki/Sensor_noise):
                 rates (rad/s): mean=0, stddev=2e-4
                 accels (m/s/s): mean=0, stddev=1.7e-2
                 rate bias (rad/s): 5e-6 - 1e-5
                 accel bias (m/s/s): 1e-1
               Experimentally, simulation provide rates with noise of
               about 1e-3 rad/s and accels with noise of about 1e-1 m/s/s.
               So we don't expect to see the noise unless number of inner iterations
               are increased.

               We will add bias.  In this model, bias is sampled once for rates
               and once for accels at startup; the sign (negative or positive)
               of each bias is then switched with equal probability.  Thereafter,
               the biases are fixed additive offsets.  We choose
               bias means and stddevs to produce biases close to the provided
               data. -->
          <!--
          <rate>
            <mean>0.0</mean>
            <stddev>2e-4</stddev>
            <bias_mean>0.0000075</bias_mean>
            <bias_stddev>0.0000008</bias_stddev>
          </rate>
          <accel>
            <mean>0.0</mean>
            <stddev>1.7e-2</stddev>
            <bias_mean>0.1</bias_mean>
            <bias_stddev>0.001</bias_stddev>
          </accel>
          -->
          <rate>
            <mean>0.0</mean>
            <stddev>0.0</stddev>
            <bias_mean>0.000000</bias_mean>
            <bias_stddev>0.0000008</bias_stddev>
          </rate>
          <accel>
            <mean>0.0</mean>
            <stddev>0.0</stddev>
            <bias_mean>0.0</bias_mean>
            <bias_stddev>0.000</bias_stddev>
          </accel>
        </noise>
      </imu>
    </sensor>
  </gazebo>
  <!-- define global properties -->
  <!-- <xacro:property name="M_PI" value="3.1415926535897931" /> -->
  <material name="Blue">
    <color rgba="0.0 0.0 0.8 1.0"/>
  </material>
  <material name="Green">
    <color rgba="0.0 0.8 0.0 1.0"/>
  </material>
  <material name="Grey">
    <color rgba="0.7 0.7 0.7 1.0"/>
  </material>
  <material name="LightGrey">
    <color rgba="0.9 0.9 0.9 1.0"/>
  </material>
  <material name="DarkGrey">
    <color rgba="0.2 0.2 0.2 1.0"/>
  </material>
  <material name="Red">
    <color rgba="0.8 0.0 0.0 1.0"/>
  </material>
  <material name="White">
    <color rgba="1.0 1.0 1.0 1.0"/>
  </material>
  <material name="Orange">
    <color rgba="1.0 0.5 0.0 1.0"/>
  </material>
  
  
  <link name="world"/>
  <joint name="reference" type="floating">
    <parent link="world"/>
    <child link="base_link"/>
  </joint>
  
  <link name="leg_left_knee_lower_bearing"/>
    <joint name="leg_left_knee_lower_bearing_joint" type="fixed">
    	<parent link="leg_left_knee_link"/>
    	<child link="leg_left_knee_lower_bearing"/>
    	<origin rpy="0 0 0" xyz="-0.375 0.0 -0.067"/>
    </joint>
    
    <link name="leg_right_knee_lower_bearing"/>
    <joint name="leg_right_knee_lower_bearing_joint" type="fixed">
    	<parent link="leg_right_knee_link"/>
    	<child link="leg_right_knee_lower_bearing"/>
    	<origin rpy="0 0 0" xyz="-0.375 0.0 -0.067"/>
    </joint>
  
</robot>
